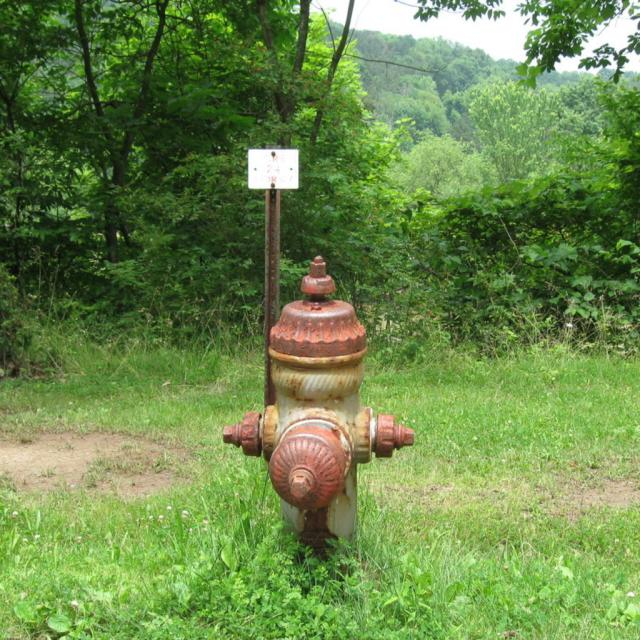fire_hydrant: (222, 252, 416, 569)
